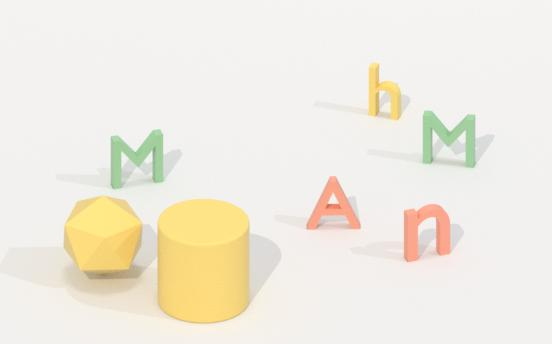A-hoa: (303, 173, 369, 236)
M-hoa: (108, 127, 169, 191), (420, 108, 480, 169)
dagiac: (57, 198, 151, 273)
h: (363, 60, 406, 123)
n: (399, 203, 459, 263)
tru: (153, 199, 251, 319)
